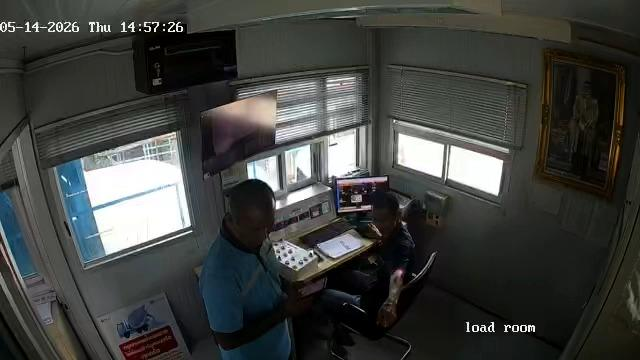Head: (226, 177, 277, 242), (371, 193, 402, 235)
People: (203, 177, 309, 360), (346, 190, 414, 332)
Phone: (298, 277, 327, 297)
